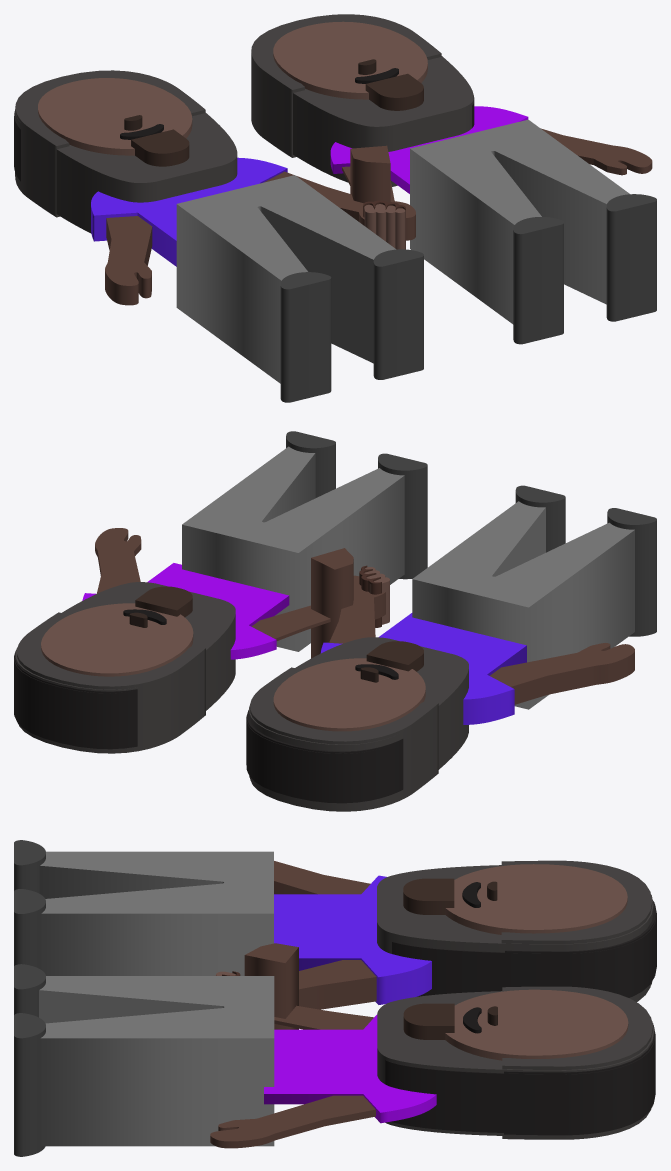
The model's file is emoji_u1f46d_1f3ff.glb.
The picture shows the model from 3 angles, top to bottom: view 1: azimuth 30°, elevation 25°; view 2: azimuth 150°, elevation 25°; view 3: azimuth 270°, elevation 25°; orthographic projection. The views are drawn at different scales.
Visible parts, largest first — view 1: emoji_u1f46d_1f3ff; view 2: emoji_u1f46d_1f3ff; view 3: emoji_u1f46d_1f3ff.
Boxes of the visible parts, x1,y1,x2,y2 form: emoji_u1f46d_1f3ff: (14,14,656,402); emoji_u1f46d_1f3ff: (14,431,656,811); emoji_u1f46d_1f3ff: (14,840,656,1156).
Bounding box in the file's own units: 0.0346 × 0.007 × 0.0334.
